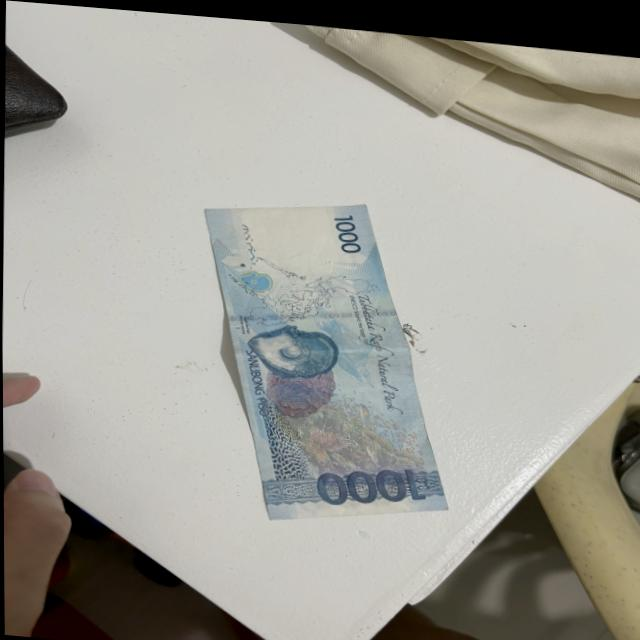1000_pearl: (244, 318, 334, 373)
1000_pearl_watermark: (236, 267, 271, 291)
